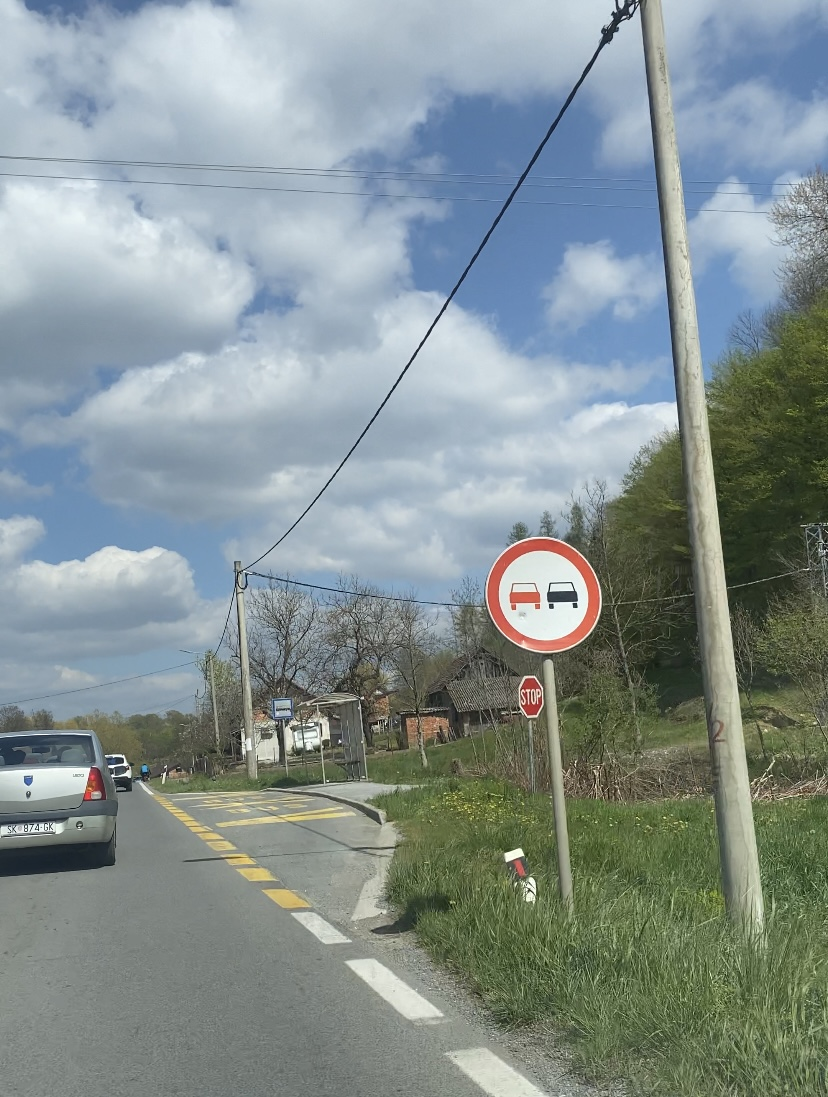Obavezno zaustavljanje: (519, 674, 544, 718)
Zabrana pretjecanja: (485, 536, 602, 653)
